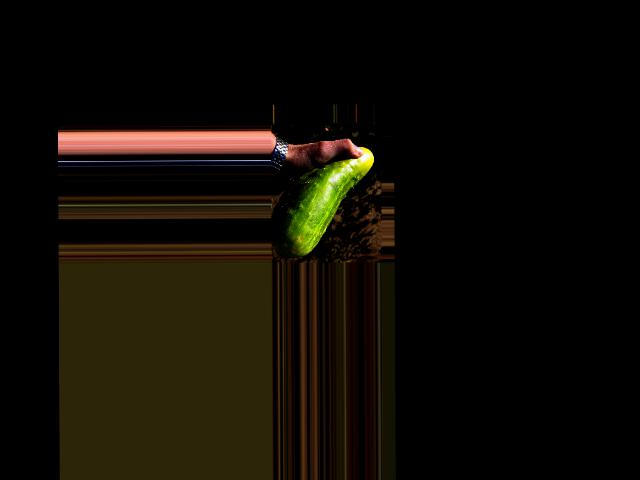cucumber: (269, 146, 374, 258)
